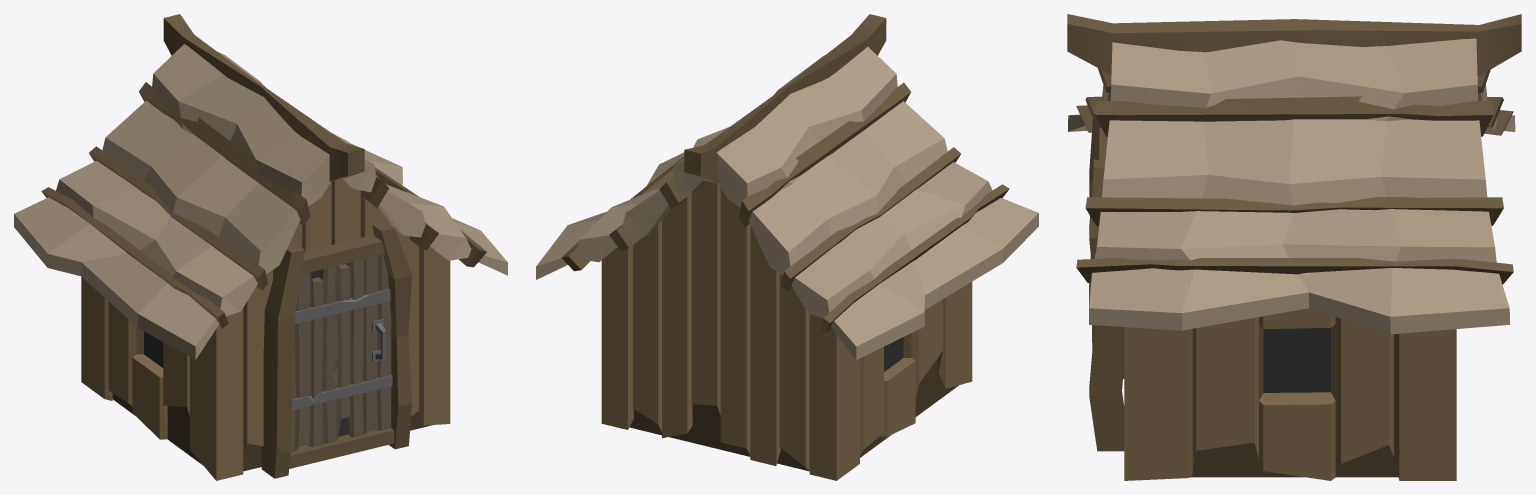
Rendered from SM_Bld_Rickety_House_01.fbx.
The picture shows the model from 3 angles, left to right: view 1: azimuth 30°, elevation 25°; view 2: azimuth 150°, elevation 25°; view 3: azimuth 270°, elevation 25°; orthographic projection. The views are drawn at different scales.
Parts seen in each view (by area): view 1: SM_Bld_Rickety_House_01; view 2: SM_Bld_Rickety_House_01; view 3: SM_Bld_Rickety_House_01.
Boxes of the visible parts, x1,y1,x2,y2 form: SM_Bld_Rickety_House_01: (14,14,507,480); SM_Bld_Rickety_House_01: (536,14,1038,480); SM_Bld_Rickety_House_01: (1067,14,1521,480).
Bounding box in the file's own units: 3.62 × 3.12 × 3.26.
